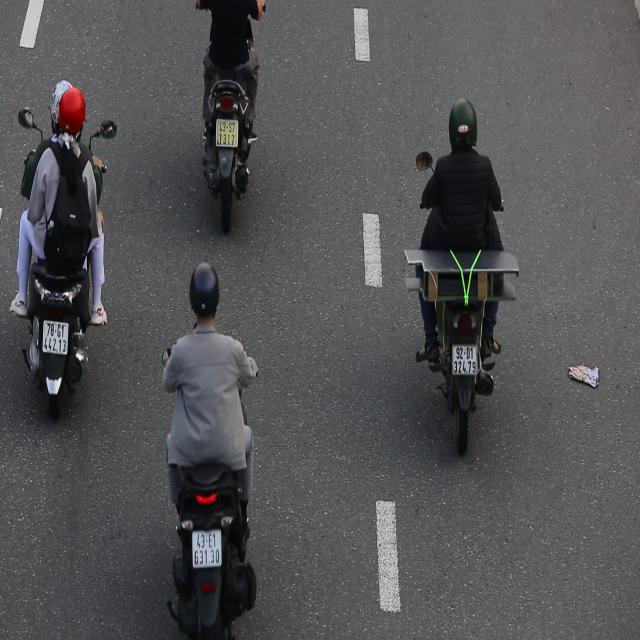motorbike: (6, 53, 121, 430), (399, 70, 507, 458), (156, 248, 258, 640)
